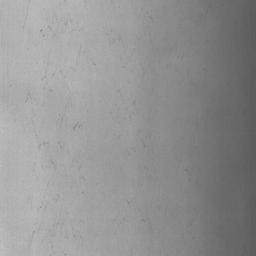Silk spot: (49, 220, 82, 248), (40, 16, 73, 37), (39, 141, 69, 152), (42, 159, 57, 171)
